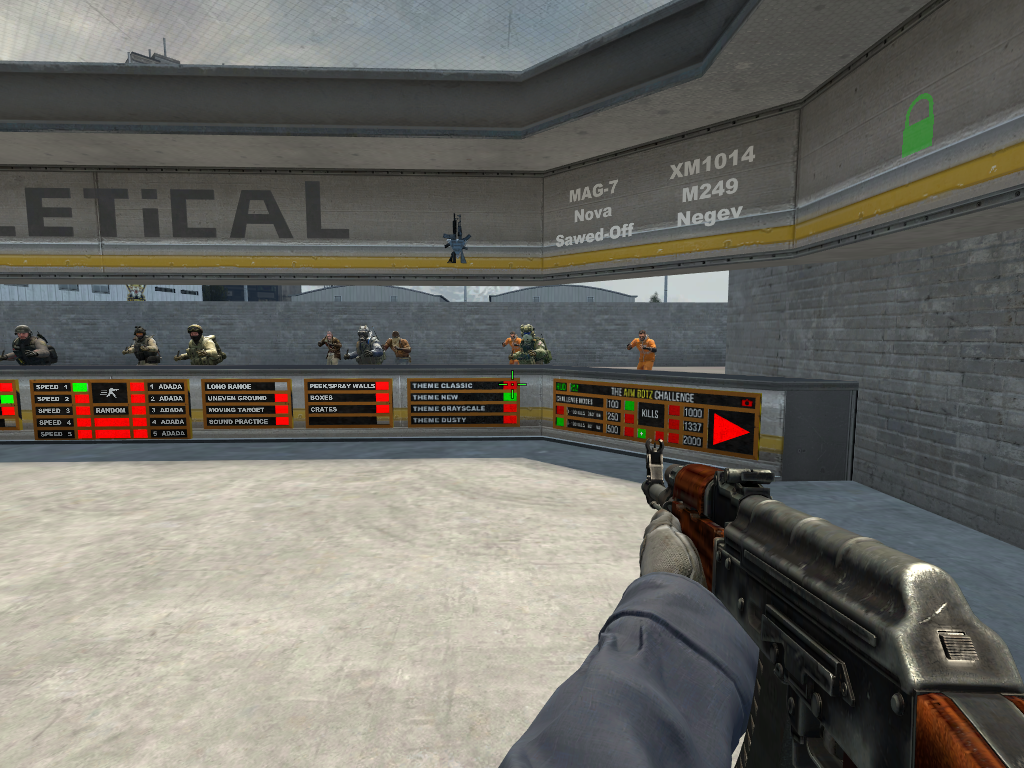ct head: (521, 325, 535, 341), (189, 325, 201, 340), (17, 326, 29, 340), (358, 326, 369, 340), (135, 327, 146, 340)
tr head: (391, 331, 400, 343), (638, 329, 646, 341), (326, 331, 333, 340), (510, 332, 516, 340)
